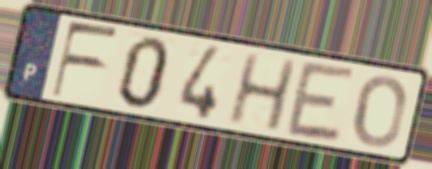0: (116, 34, 174, 112)
4: (175, 43, 223, 123)
E: (283, 58, 359, 146)
F: (49, 20, 122, 101)
H: (224, 51, 300, 135)
O: (351, 73, 409, 150)
